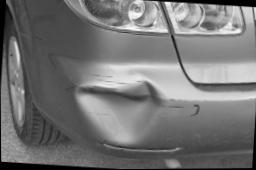Bumper: (39, 38, 221, 160)
